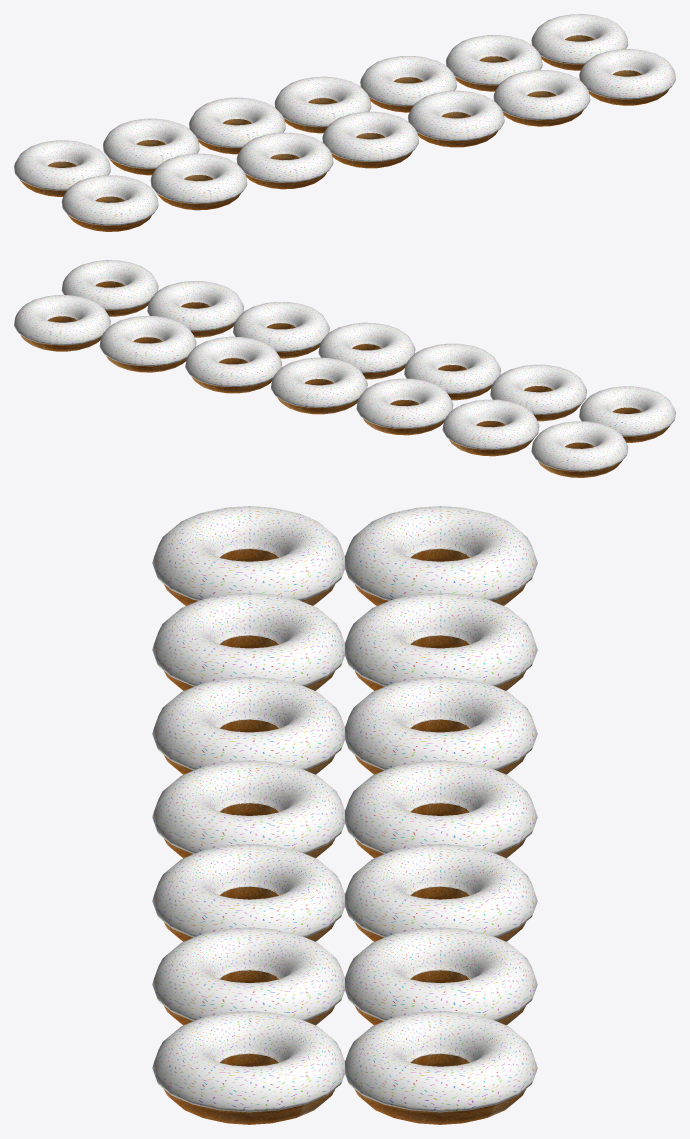
Rendered from MuchasDonas.obj.
3 views of the same model, one above another, from view 1: azimuth 30°, elevation 25°; view 2: azimuth 150°, elevation 25°; view 3: azimuth 270°, elevation 25° (orthographic). The views are drawn at different scales.
Visible parts, largest first — view 1: MuchasDonas3:pTorus57; view 2: MuchasDonas3:pTorus57; view 3: MuchasDonas3:pTorus57.
Boxes of the visible parts, x1=… form: MuchasDonas3:pTorus57: x1=14, y1=14, x2=675, y2=231; MuchasDonas3:pTorus57: x1=14, y1=260, x2=675, y2=477; MuchasDonas3:pTorus57: x1=152, y1=506, x2=537, y2=1124.
Size of the model in its own units: 12.27 by 0.5304 by 3.4.
2 materials, 2 textured.
